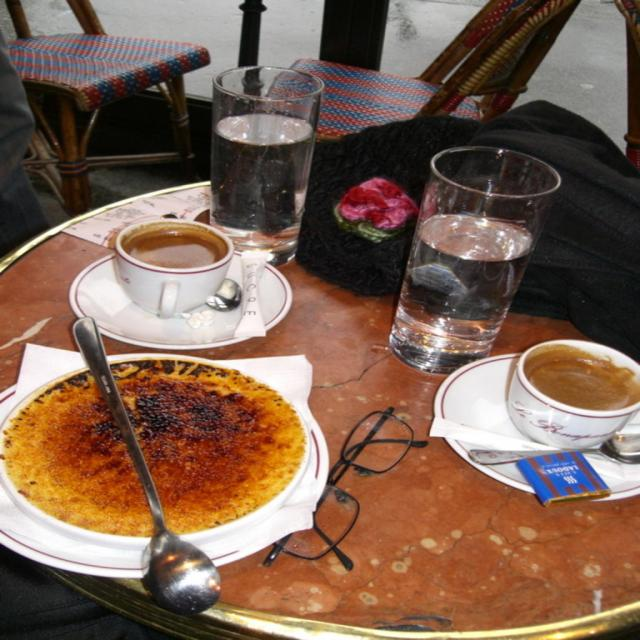Coffee: (534, 350, 638, 419), (127, 228, 226, 266)
Tea: (518, 343, 639, 408), (122, 222, 225, 270)
